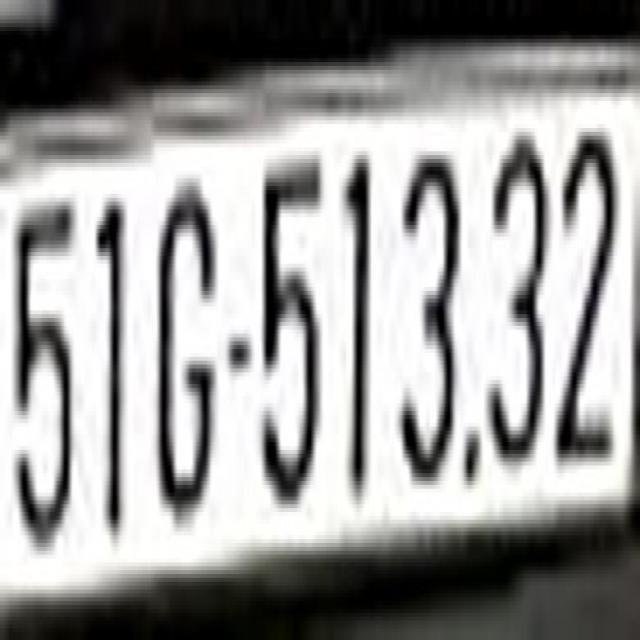1: (90, 190, 134, 547), (340, 144, 374, 492)
2: (558, 109, 617, 474)
3: (486, 104, 548, 470), (396, 132, 456, 492)
5: (248, 124, 328, 512), (12, 178, 78, 562)
G: (149, 151, 217, 512)
